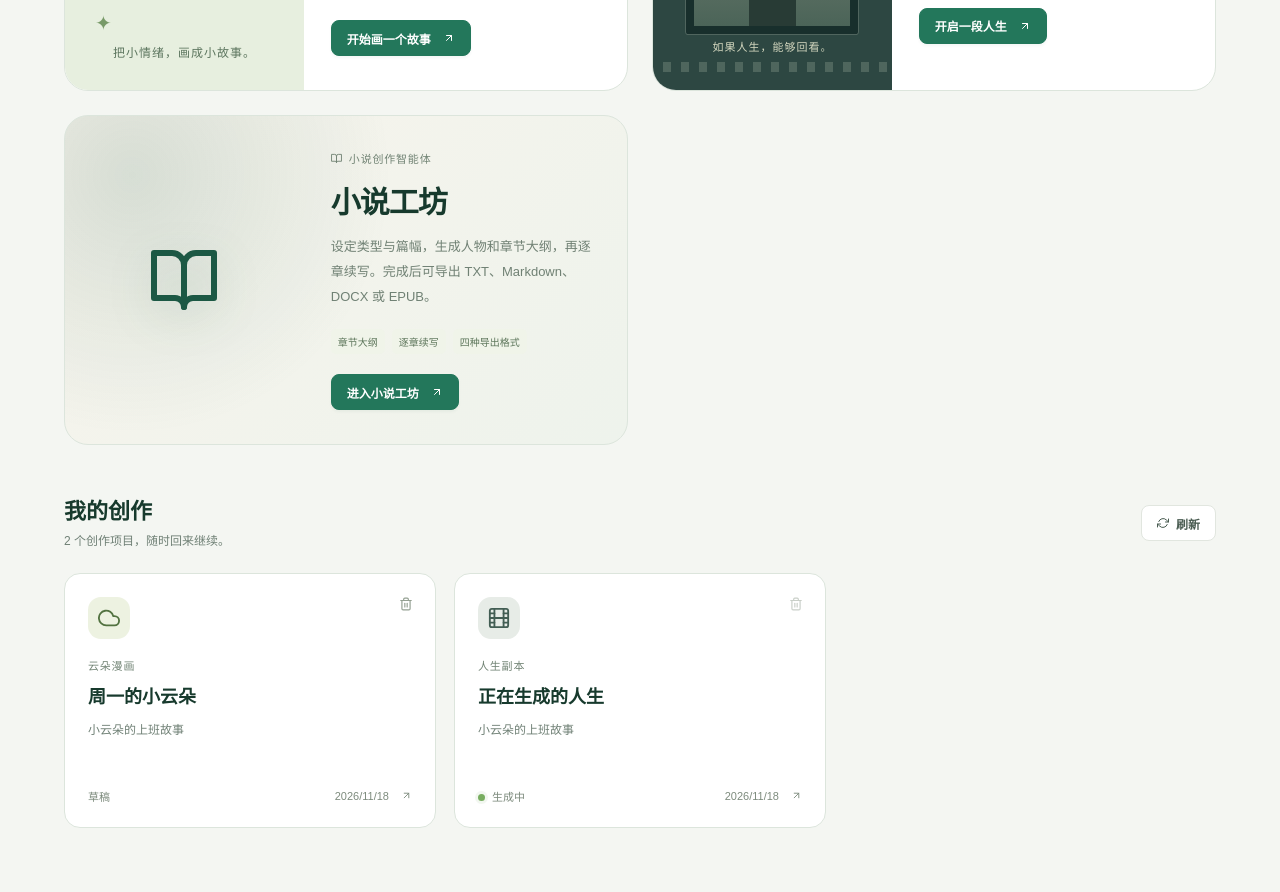
Test: 运行中的作品禁止删除，删除失败保留作品并允许重试
(page scrolled)
Expected: the link "云朵漫画 周一的小云朵 小云朵的上班故事 草稿 2026/11/18" is shown, [65,574,435,827]
Expected: the button named "删除正在生成的人生" is disabled, [782,590,810,621]
Click the button named "删除周一的小云朵" at {"x": 406, "y": 605}, box [392,590,420,621]
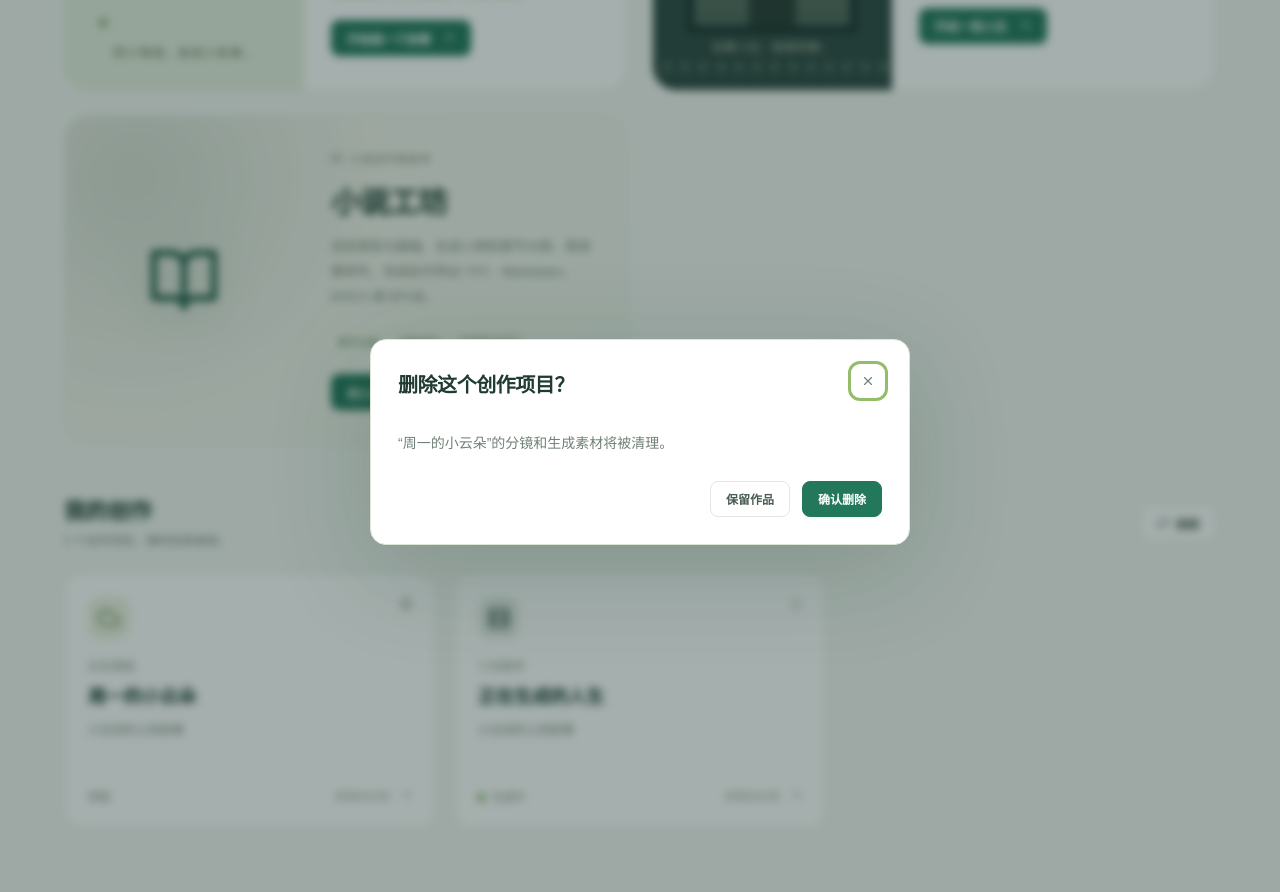
Click the button "确认删除" at {"x": 842, "y": 499}, box [802,481,882,517]
(page scrolled)
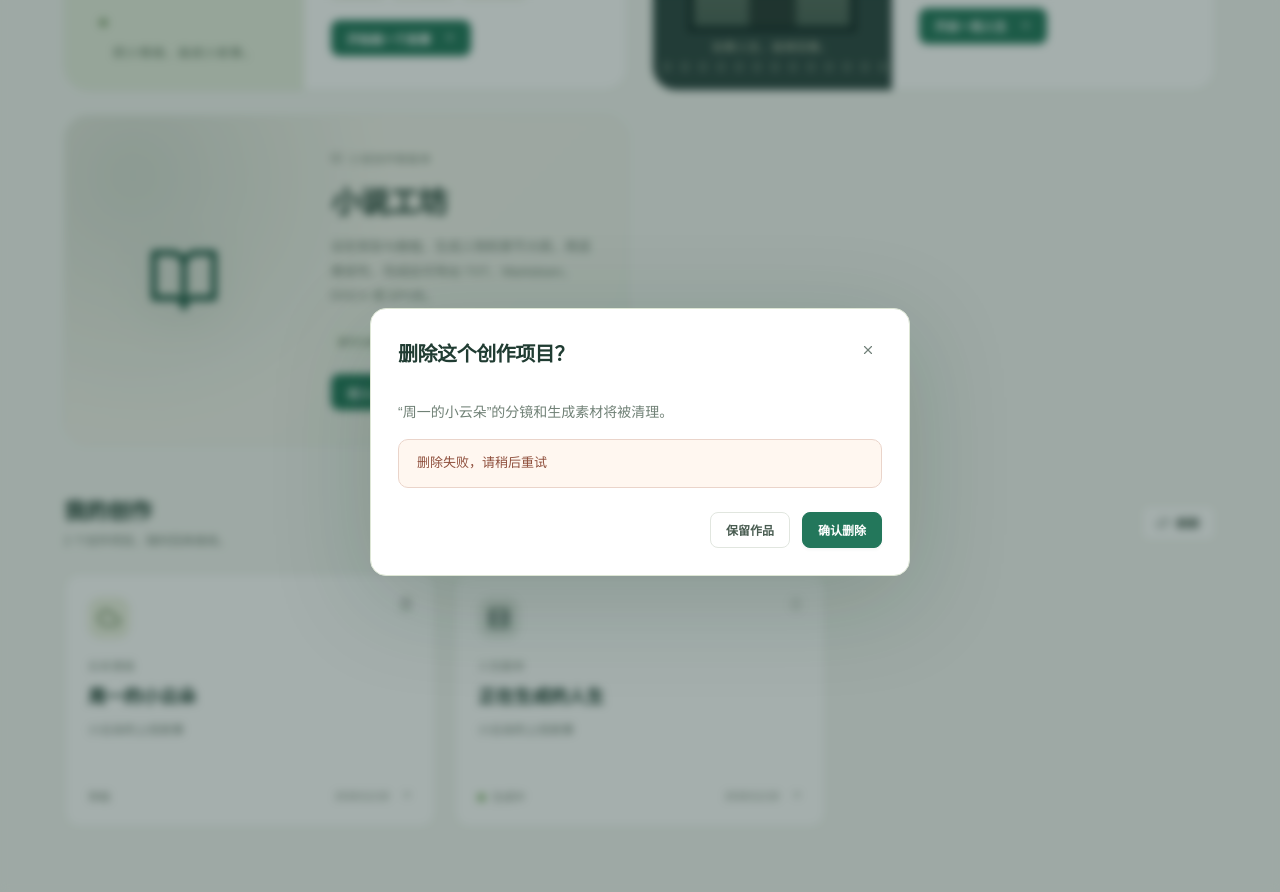
Expected: the link "云朵漫画 周一的小云朵 小云朵的上班故事 草稿 2026/11/18" is shown, [65,574,435,827]
Expected: the message reads "删除失败，请稍后重试", [417,455,547,470]
Click the button "确认删除" at {"x": 842, "y": 530}, box [802,512,882,548]
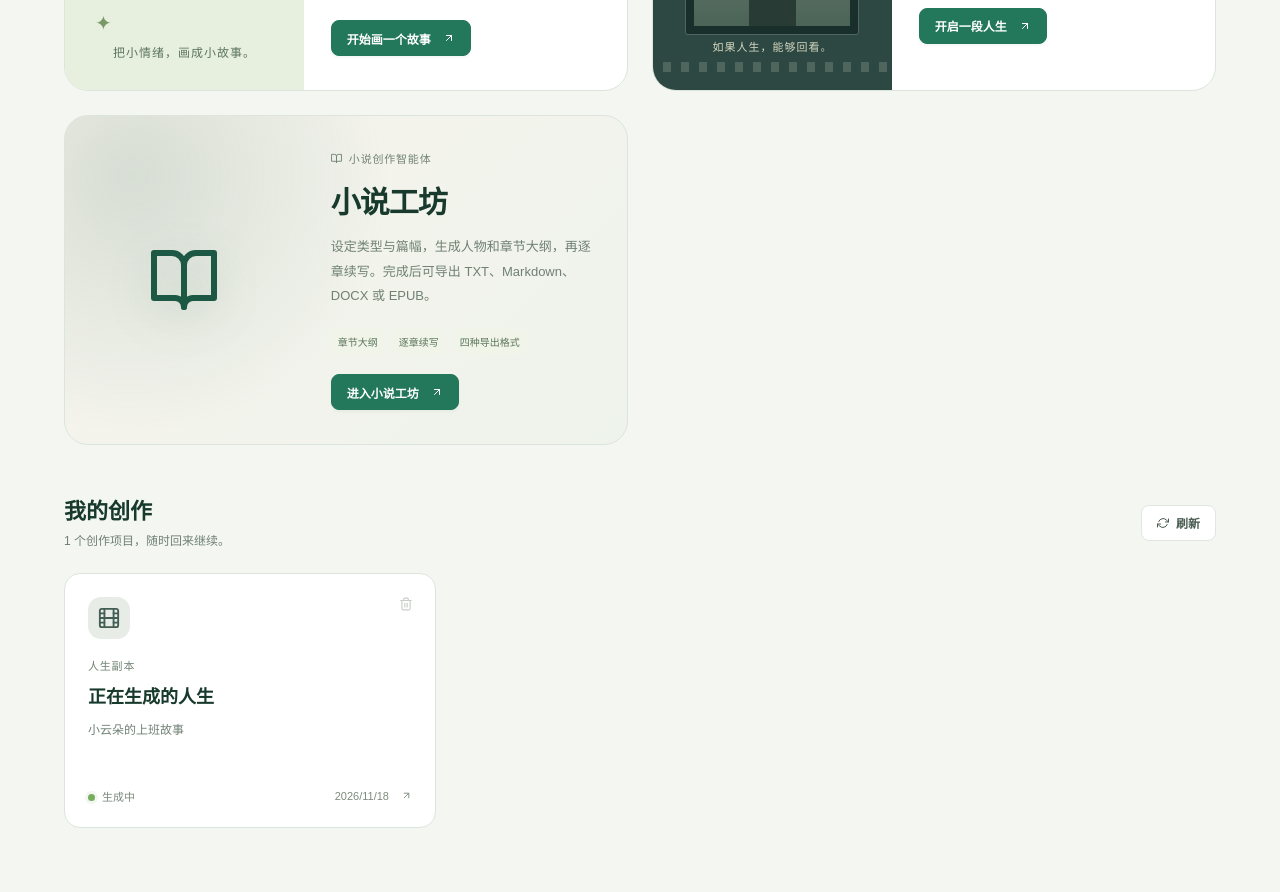
Expected: the dialog is gone
Expected: the link "周一的小云朵" is gone
